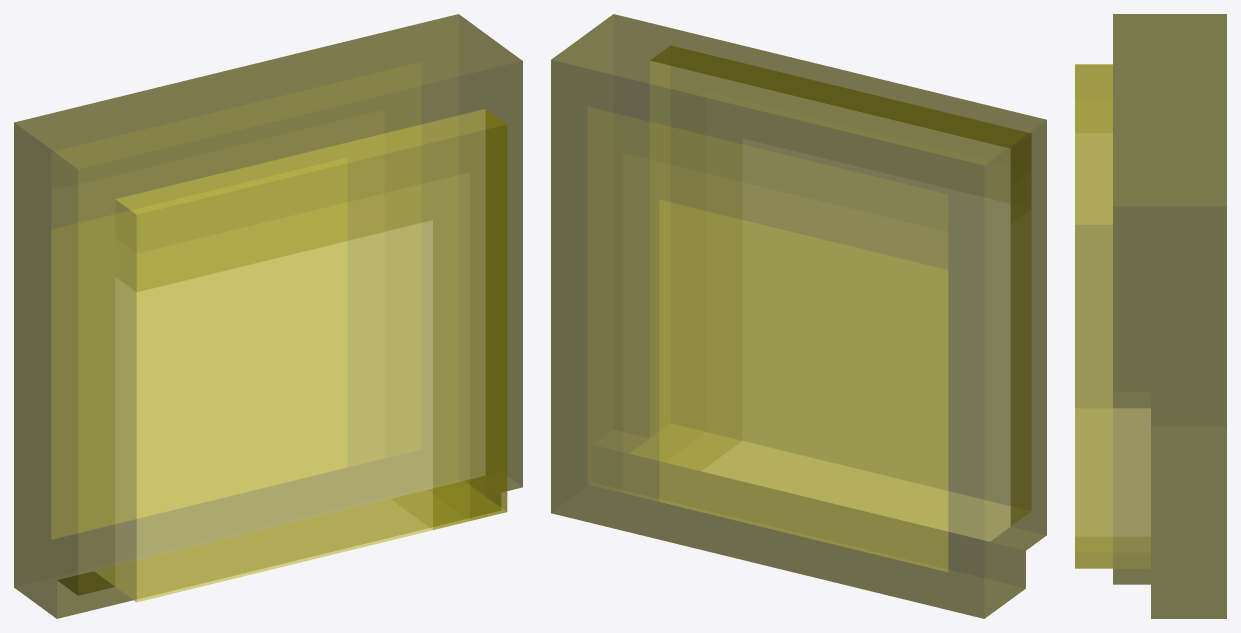
File: screen_yellow.glb
3 renders of one model, left to right at view 1: azimuth 30°, elevation 25°; view 2: azimuth 150°, elevation 25°; view 3: azimuth 270°, elevation 25°, orthographic. The views are drawn at different scales.
Visible parts, largest first — view 1: bb0 screen; view 2: bb0 screen; view 3: bb0 screen.
Boxes of the visible parts, x1,y1,x2,y2 form: bb0 screen: [14, 14, 522, 618]; bb0 screen: [551, 14, 1046, 618]; bb0 screen: [1075, 14, 1226, 618].
Size of the model in its own units: 12 by 12 by 4.
